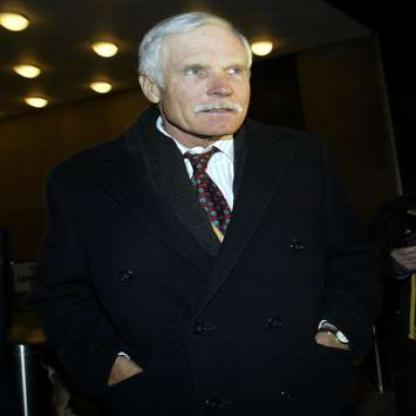face: (155, 15, 262, 139)
